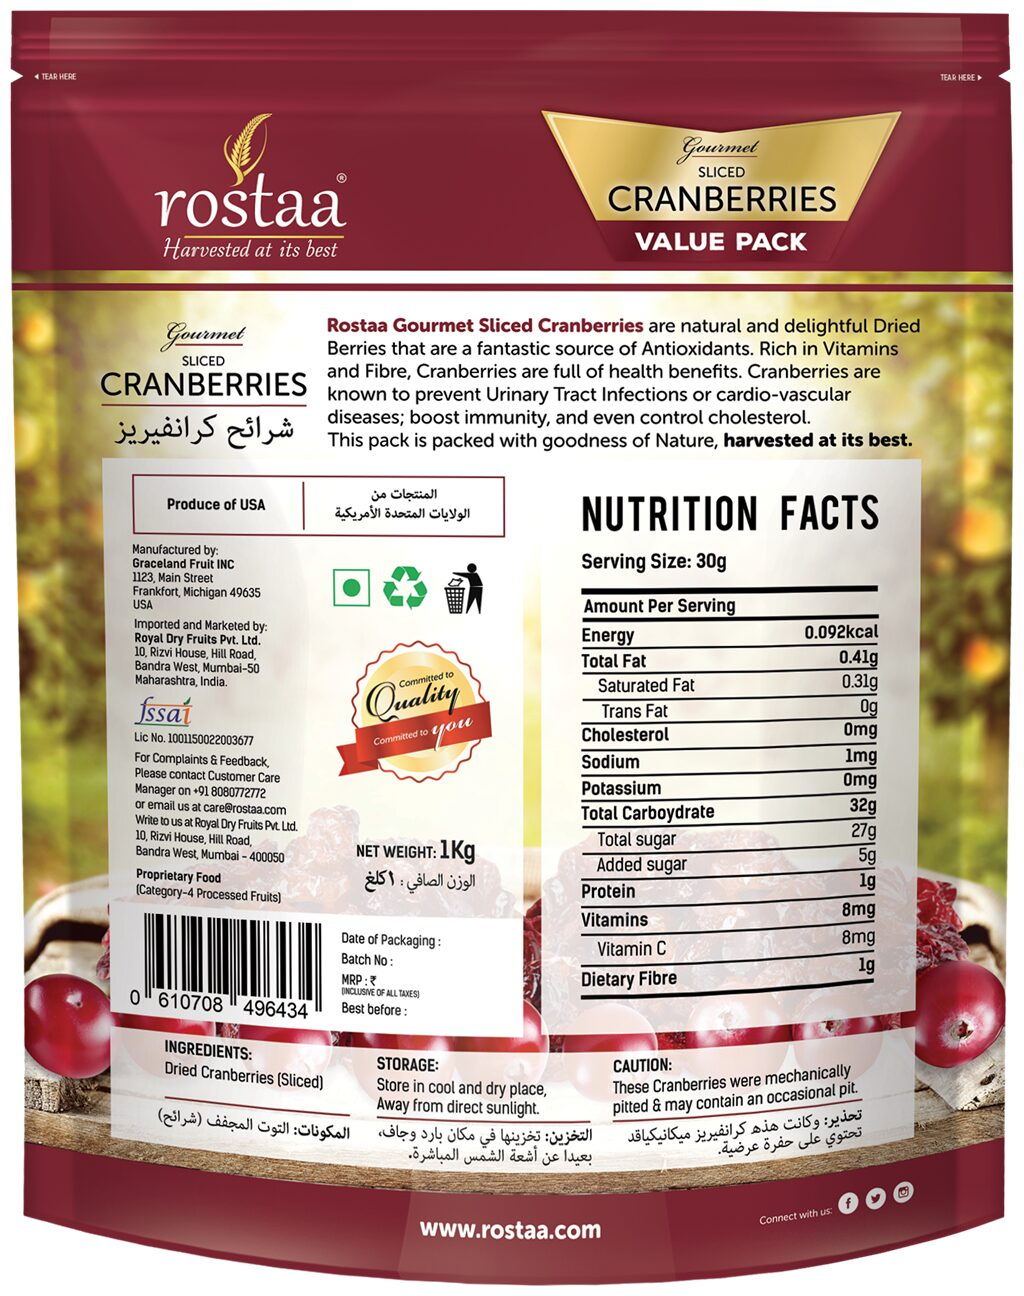fssai: (133, 693, 198, 730)
